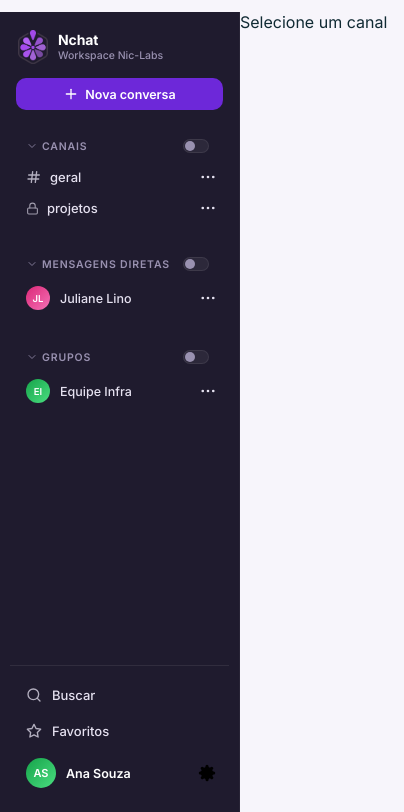
Scenario: ChatSidebar — section classification › routes a selected group to the DM route, like any other conversation
Click the option with aria-label "Grupo Equipe Infra". click: (94, 391)
box: [16, 373, 171, 409]
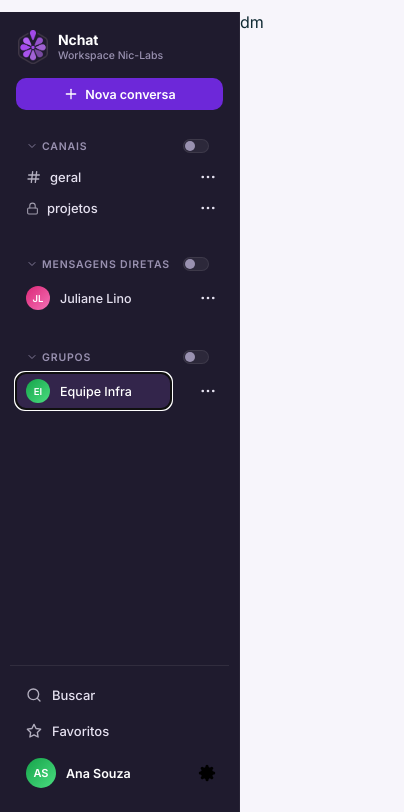
Check: the text "dm" is shown, box [240, 12, 264, 32]
